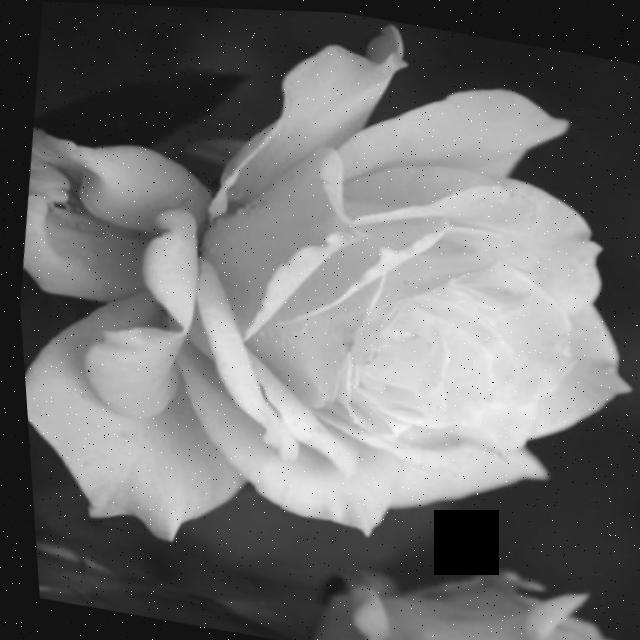rose: (0, 0, 640, 604)
